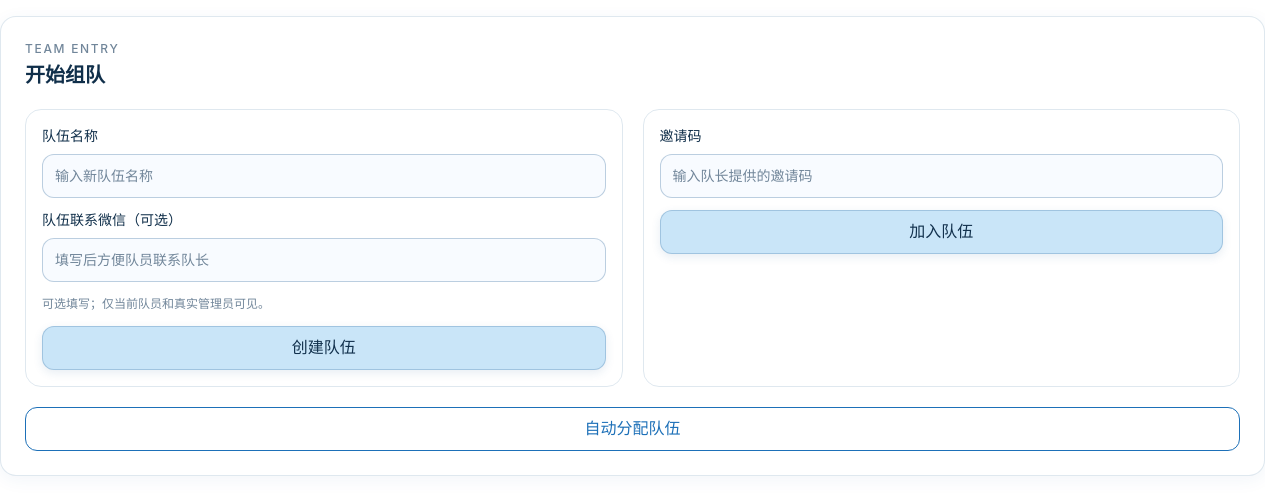
Test case: independent team UI › automatically assigns a team without a competition
Click the button "自动分配队伍".
click(632, 429)  # box [25,407,1240,451]
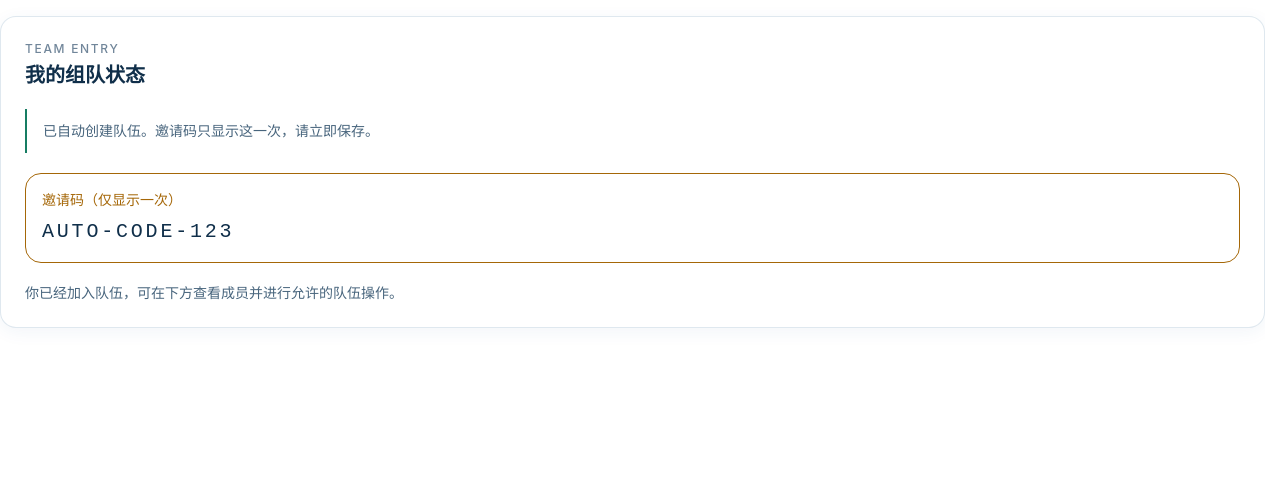
Expected: the text "AUTO-CODE-123" is shown, [42,220,234,243]
